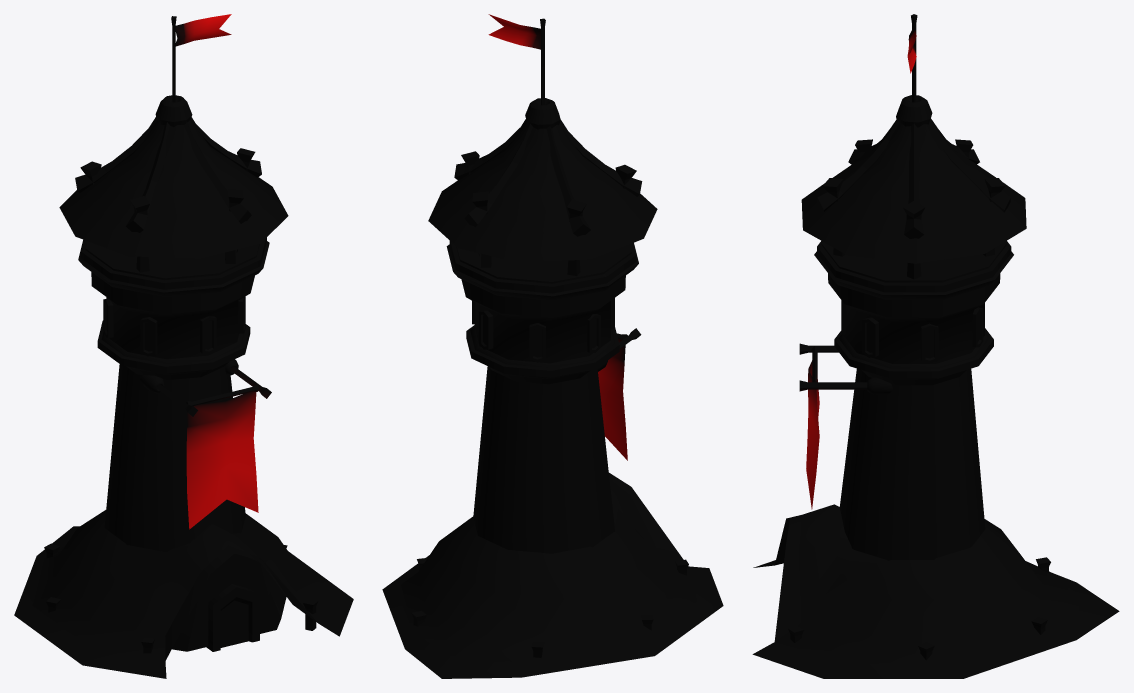
Rendered from SM_WatchTower.fbx.
3 views of the same model, side by side, from view 1: azimuth 30°, elevation 25°; view 2: azimuth 150°, elevation 25°; view 3: azimuth 270°, elevation 25° (orthographic). The views are drawn at different scales.
Parts seen in each view (by area): view 1: SM_WatchTower; view 2: SM_WatchTower; view 3: SM_WatchTower.
Part boxes in pixels (x1,y1,x2,y2): SM_WatchTower: [14, 14, 353, 678]; SM_WatchTower: [382, 14, 723, 678]; SM_WatchTower: [752, 14, 1119, 678].
Size of what is drawn, in the model's own units: 376 by 778 by 431.
